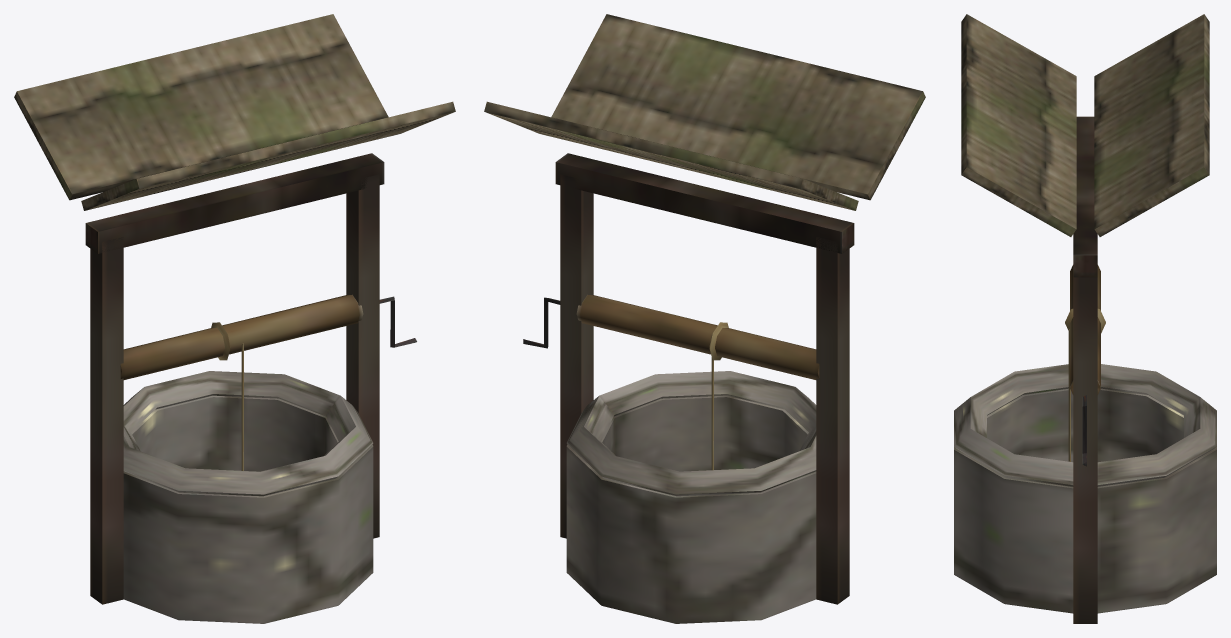
The model's file is well_windlass.obj.
3 renders of one model, left to right at view 1: azimuth 30°, elevation 25°; view 2: azimuth 150°, elevation 25°; view 3: azimuth 270°, elevation 25°, orthographic.
Parts seen in each view (by area): view 1: well_windlass, well_windlass_drum; view 2: well_windlass, well_windlass_drum; view 3: well_windlass, well_windlass_drum.
Part boxes in pixels (x1=…): well_windlass: x1=14, y1=14, x2=455, y2=623; well_windlass_drum: x1=120, y1=294, x2=416, y2=379; well_windlass: x1=484, y1=14, x2=925, y2=623; well_windlass_drum: x1=523, y1=294, x2=819, y2=379; well_windlass: x1=954, y1=14, x2=1216, y2=623; well_windlass_drum: x1=1065, y1=265, x2=1105, y2=466.
Size of the model in its own units: 2.25 by 2.98 by 1.52.
Materials: 1 (1 with a texture image).
